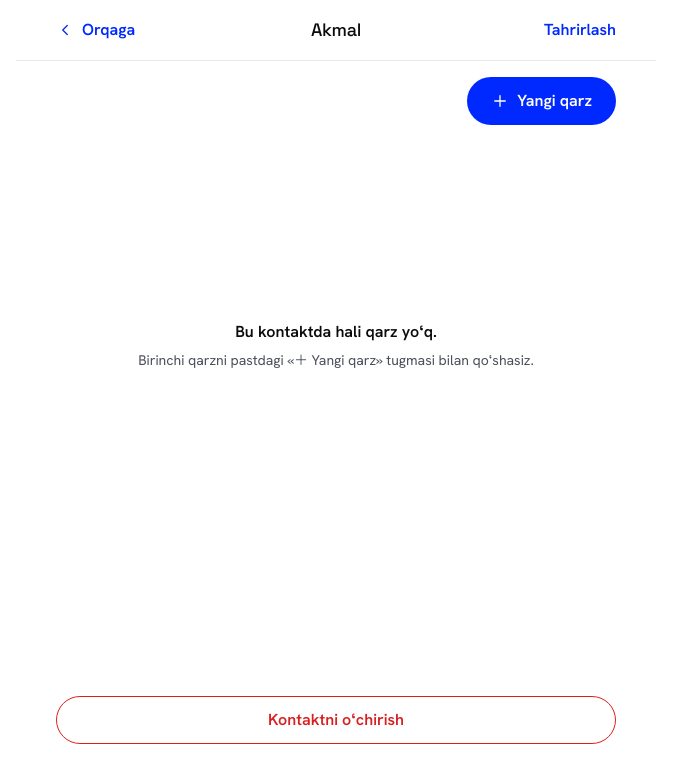
it: kontaktni tahrirlash (0060; mezon 23, 24, 25, 26) › «Tahrirlash» ochiq blokni oʻzi yopadi va oʻzgartirilgani unutiladi
Click the button "Tahrirlash" at (580, 30), box [544, 8, 616, 52]
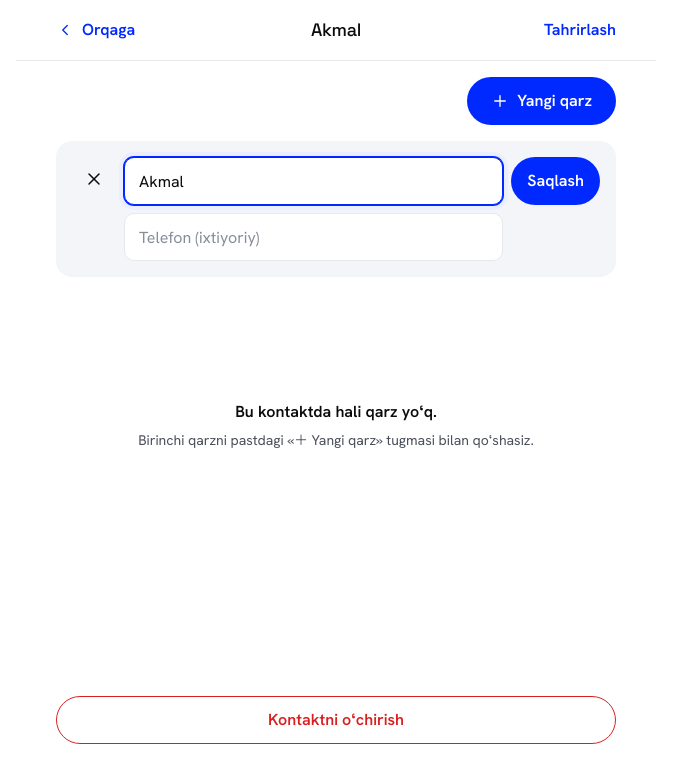
Type " aka" into the field named "Ism" at (314, 181), box [124, 157, 503, 205]
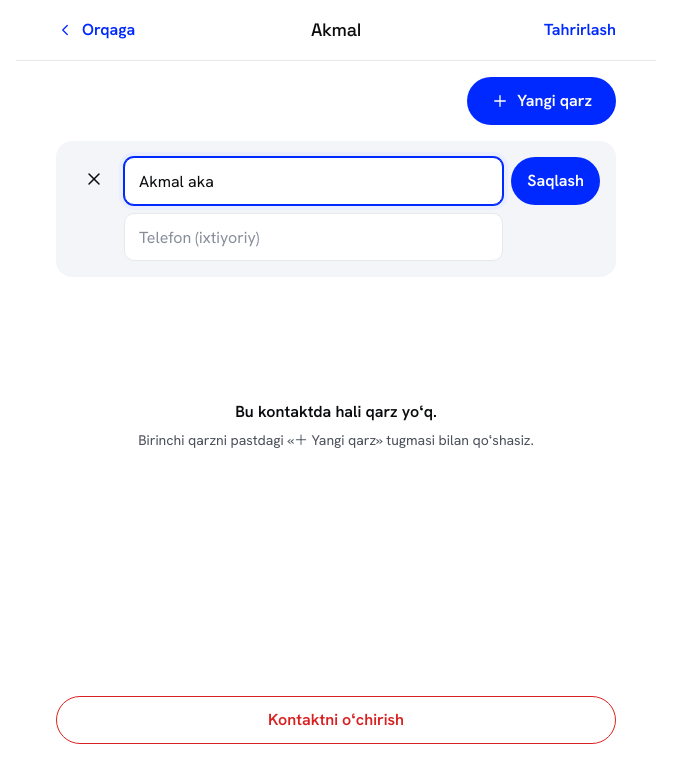
Click the button "Tahrirlash" at (580, 30), box [544, 8, 616, 52]
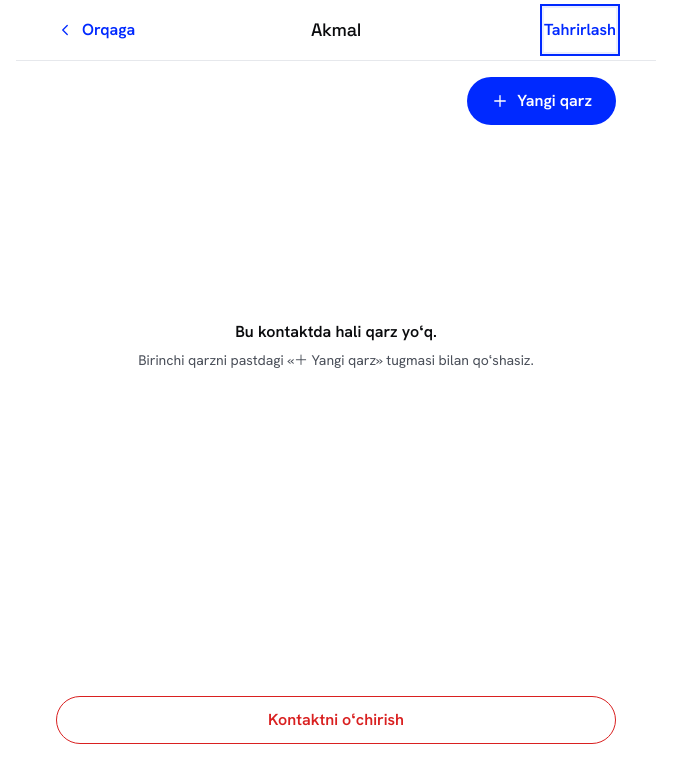
Result: the field labelled "Ism" is gone
Click the button "Tahrirlash" at (580, 30), box [544, 8, 616, 52]
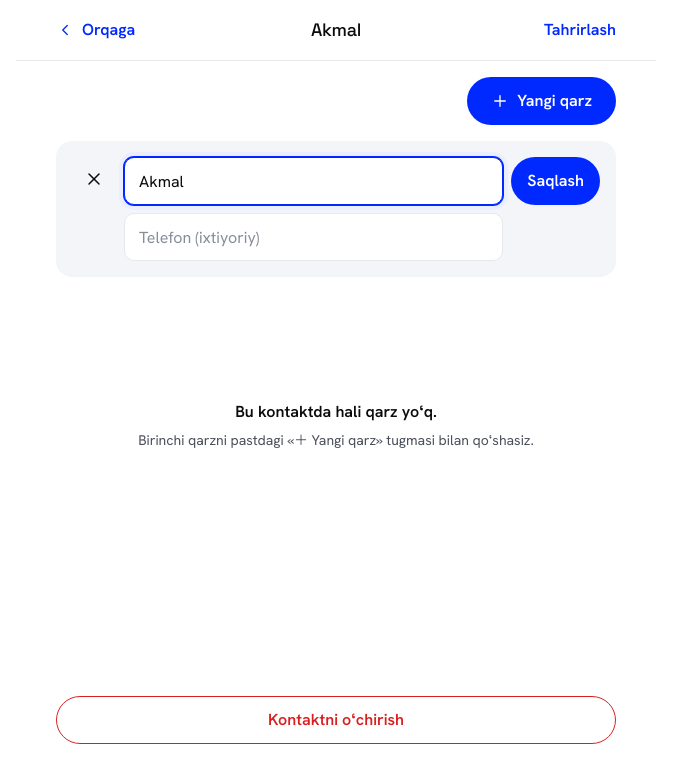
Result: the field named "Ism" holds "Akmal" at [124, 157, 503, 205]
